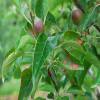Apple rust leaf: (62, 29, 89, 55), (57, 49, 86, 73), (81, 2, 99, 36), (19, 67, 33, 99)
